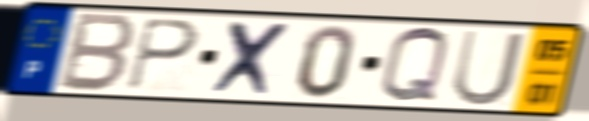0: (295, 23, 360, 102)
B: (53, 10, 141, 95)
P: (124, 16, 202, 93)
Q: (376, 24, 452, 107)
U: (448, 27, 529, 109)
X: (207, 18, 298, 100)
